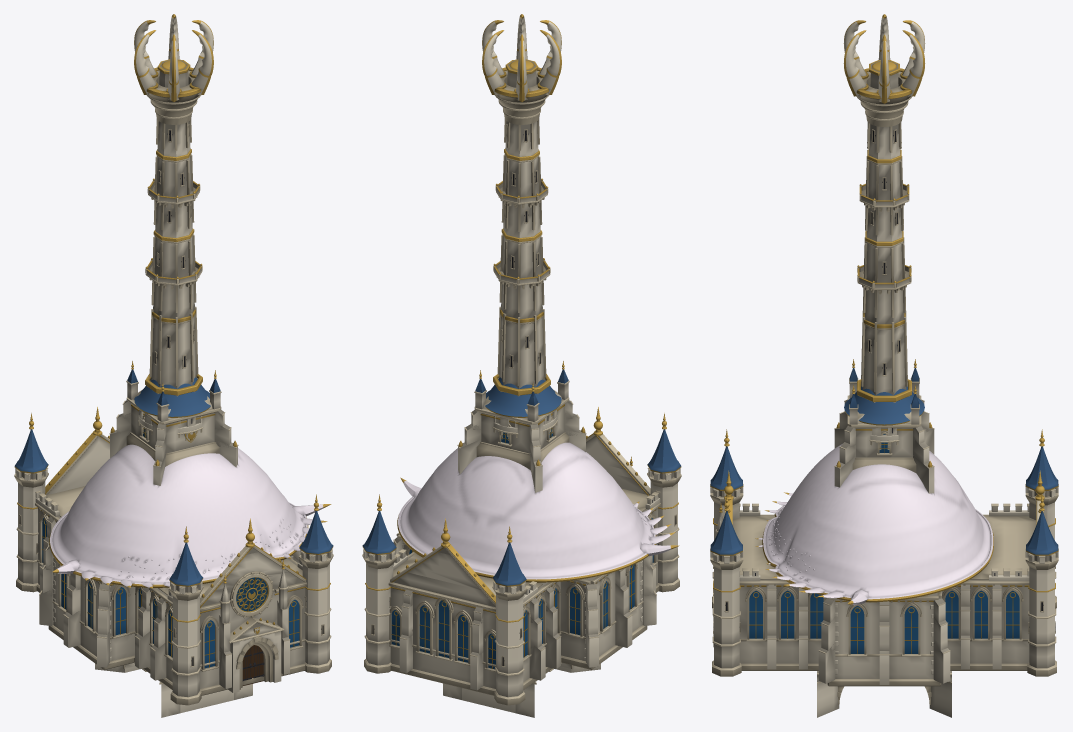
File: tidecrown.glb
3 views of the same model, side by side, from view 1: azimuth 30°, elevation 25°; view 2: azimuth 150°, elevation 25°; view 3: azimuth 270°, elevation 25° (orthographic).
Parts seen in each view (by area): view 1: TC_Keep_mesh, TC_WardTower_mesh, TC_BridgeSpan_mesh; view 2: TC_Keep_mesh, TC_WardTower_mesh, TC_BridgeSpan_mesh; view 3: TC_Keep_mesh, TC_WardTower_mesh, TC_BridgeSpan_mesh.
Boxes of the visible parts, x1=… form: TC_Keep_mesh: x1=14, y1=14, x2=333, y2=705; TC_WardTower_mesh: x1=134, y1=377, x2=210, y2=440; TC_BridgeSpan_mesh: x1=95, y1=662, x2=252, y2=717; TC_Keep_mesh: x1=362, y1=14, x2=681, y2=705; TC_WardTower_mesh: x1=485, y1=377, x2=561, y2=440; TC_BridgeSpan_mesh: x1=443, y1=662, x2=600, y2=717; TC_Keep_mesh: x1=710, y1=14, x2=1058, y2=686; TC_WardTower_mesh: x1=844, y1=386, x2=924, y2=449; TC_BridgeSpan_mesh: x1=817, y1=671, x2=951, y2=717.
Bounding box in the file's own units: 73.1 × 164 × 77.46.
